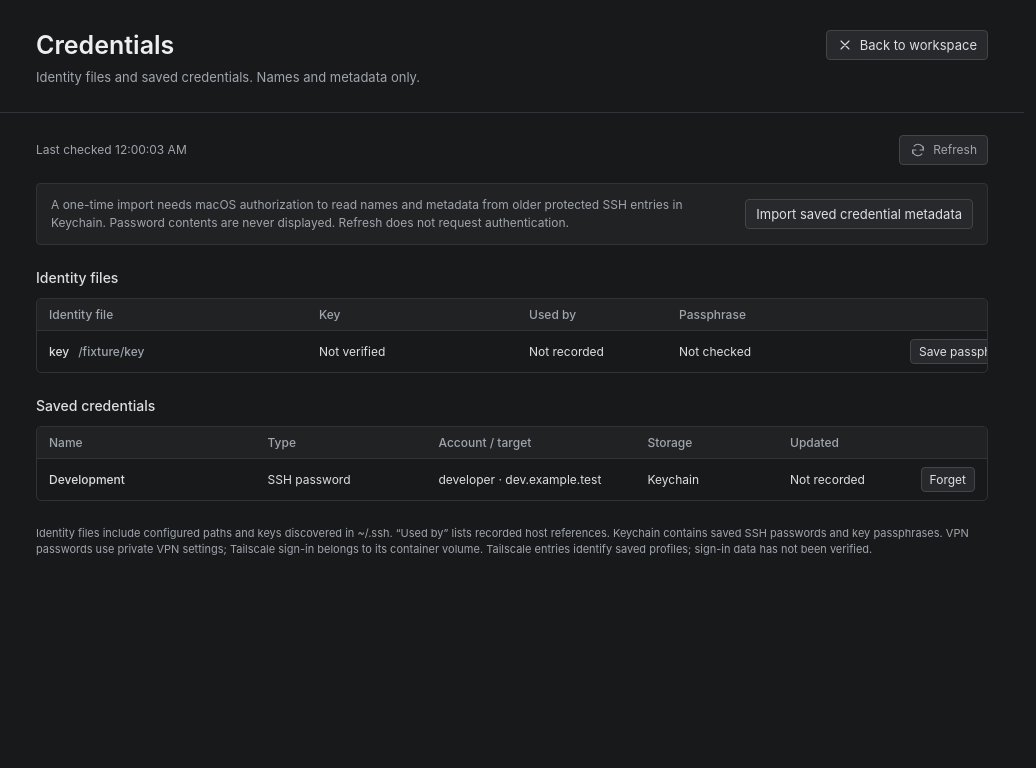
Test: Saved credential metadata import › refreshes available metadata after credential_store_busy without hiding required state
Click the button "Import saved credential metadata" at [859, 214], box [745,198,973,228]
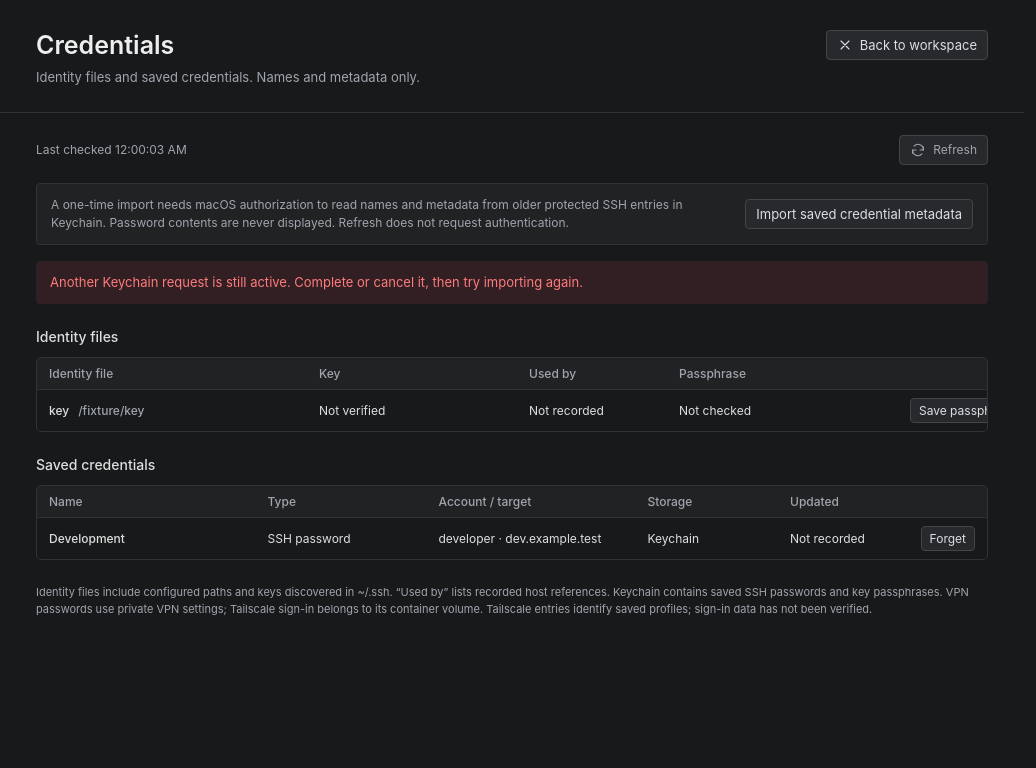
Result: the text "Another Keychain request is still active. Complete or cancel it, then try importing again." is shown at [50,274,583,290]
